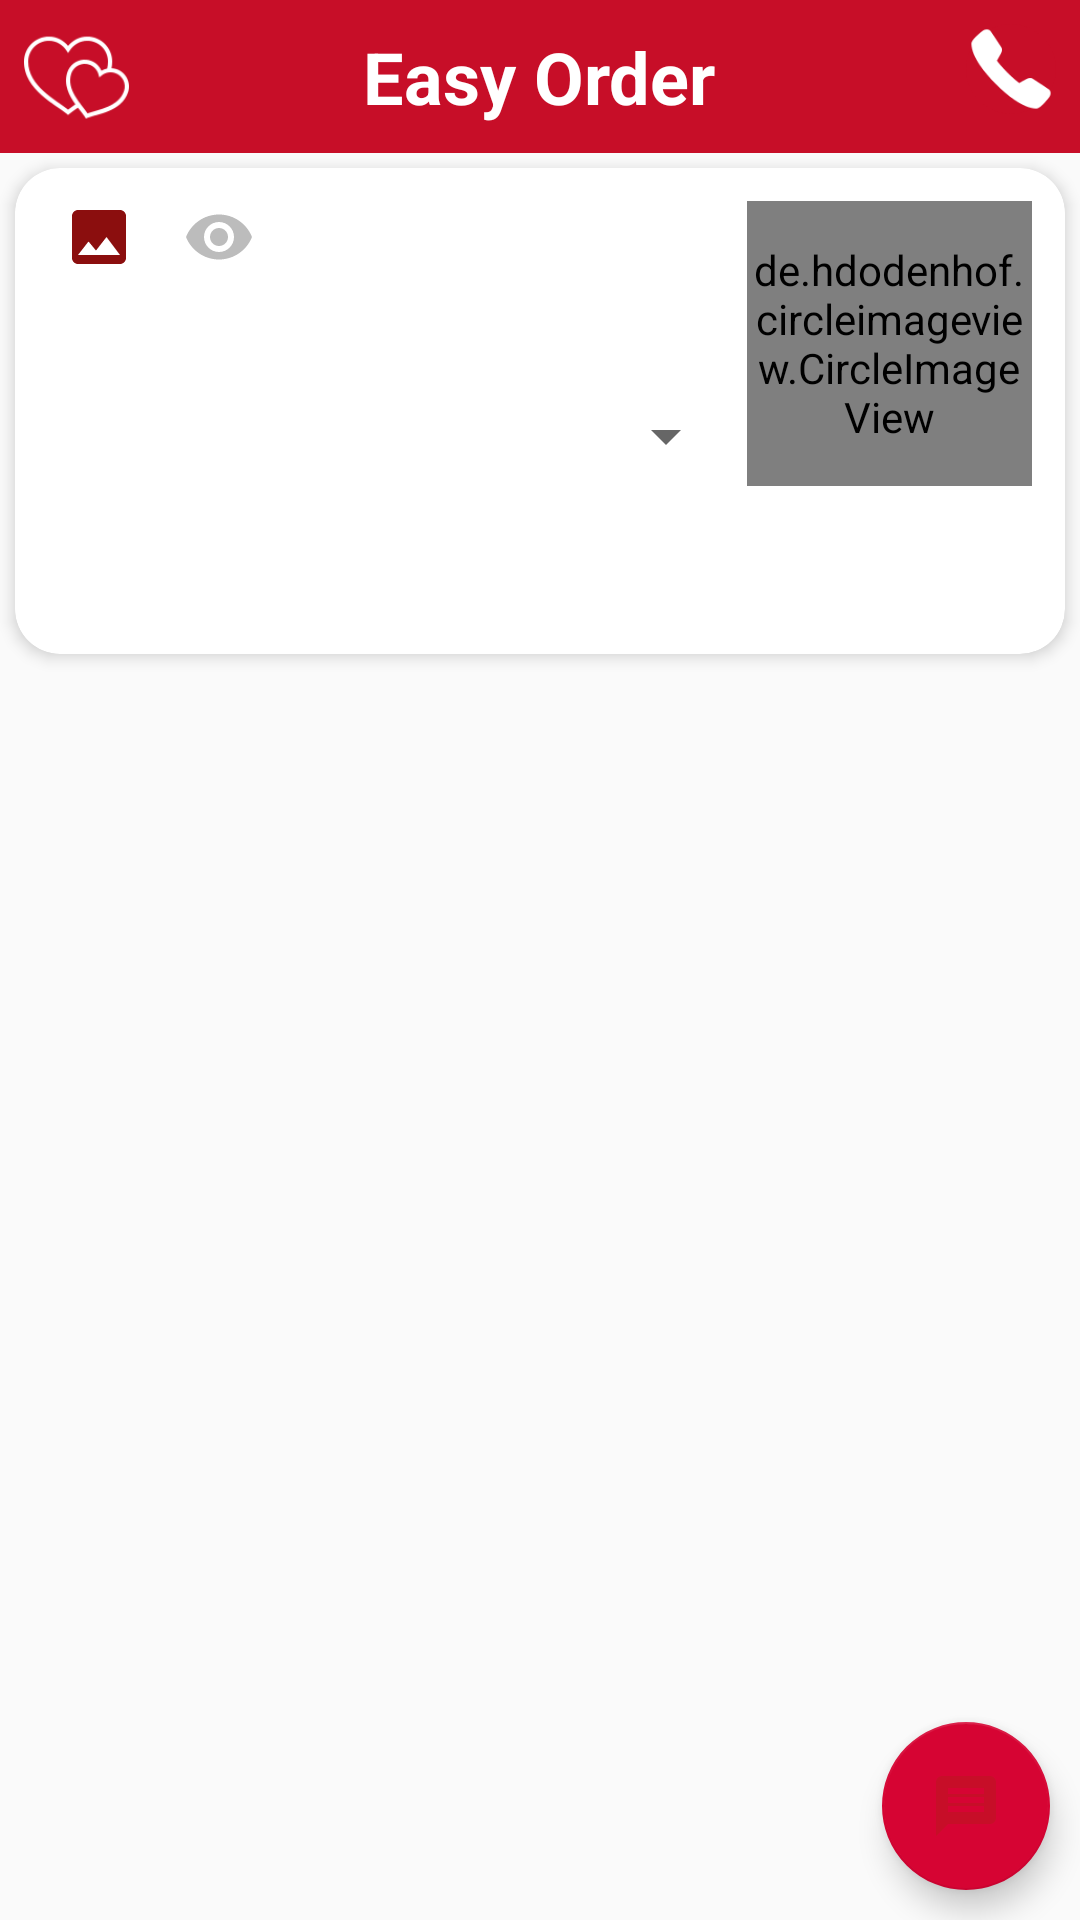

Icons on this 1080 × 1920 Android screen, each with the point to tap as [x,y]:
eye: [219,237]
phone: [1011,69]
romance heart: [76,77]
